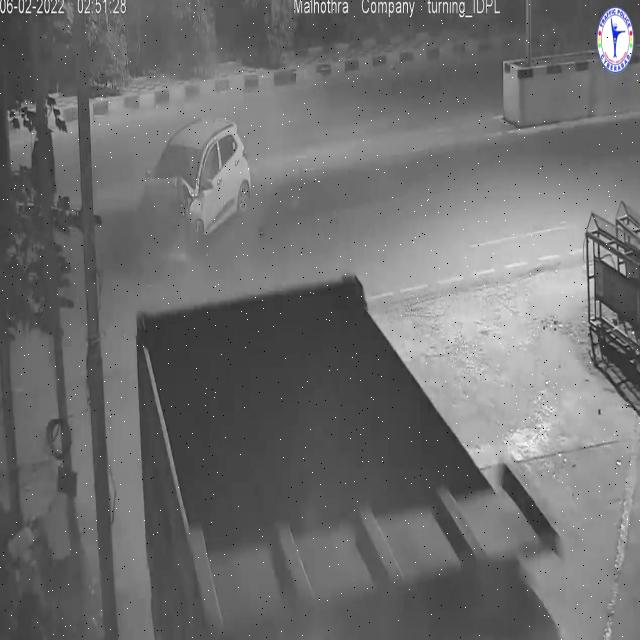accident: (130, 103, 259, 267)
